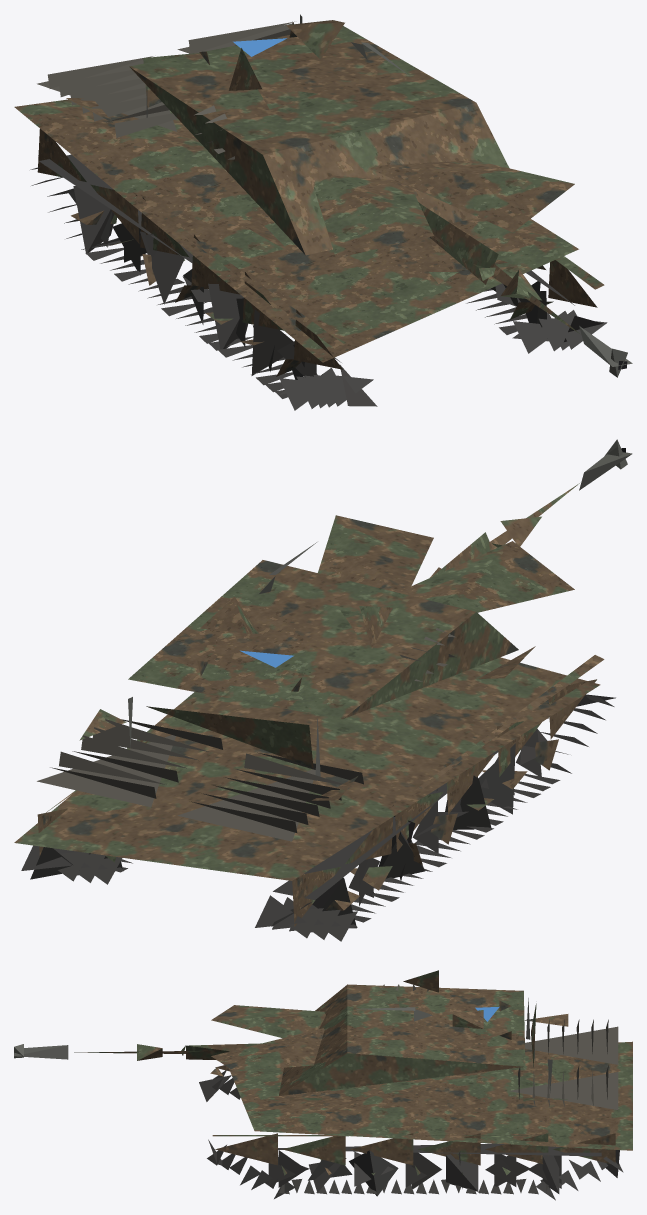
The model's file is mbt_e4_de_leopard2a6_LOD2.glb.
3 renders of one model, top to bottom at view 1: azimuth 30°, elevation 25°; view 2: azimuth 150°, elevation 25°; view 3: azimuth 270°, elevation 25°, orthographic. The views are drawn at different scales.
Visible parts, largest first — view 1: mbt_e4_de_leopard2a6_LOD2_body, mbt_e4_de_leopard2a6_LOD2_track, mbt_e4_de_leopard2a6_LOD2_deck, mbt_e4_de_leopard2a6_LOD2_gun; view 2: mbt_e4_de_leopard2a6_LOD2_body, mbt_e4_de_leopard2a6_LOD2_track, mbt_e4_de_leopard2a6_LOD2_deck, mbt_e4_de_leopard2a6_LOD2_gun; view 3: mbt_e4_de_leopard2a6_LOD2_body, mbt_e4_de_leopard2a6_LOD2_track, mbt_e4_de_leopard2a6_LOD2_deck, mbt_e4_de_leopard2a6_LOD2_gun.
Part boxes in pixels (x1,y1,x2,y2): mbt_e4_de_leopard2a6_LOD2_body: (14,20,604,376); mbt_e4_de_leopard2a6_LOD2_track: (30,154,607,410); mbt_e4_de_leopard2a6_LOD2_deck: (37,21,294,159); mbt_e4_de_leopard2a6_LOD2_gun: (146,14,632,377); mbt_e4_de_leopard2a6_LOD2_body: (14,483,604,926); mbt_e4_de_leopard2a6_LOD2_track: (21,694,615,941); mbt_e4_de_leopard2a6_LOD2_deck: (37,628,456,841); mbt_e4_de_leopard2a6_LOD2_gun: (128,439,632,780); mbt_e4_de_leopard2a6_LOD2_body: (74,970,632,1175); mbt_e4_de_leopard2a6_LOD2_track: (199,1070,623,1200); mbt_e4_de_leopard2a6_LOD2_deck: (381,984,618,1109); mbt_e4_de_leopard2a6_LOD2_gun: (14,998,552,1092).
Bounding box in the file's own units: 3.75 × 3.26 × 10.97.
6 materials, 1 textured.
